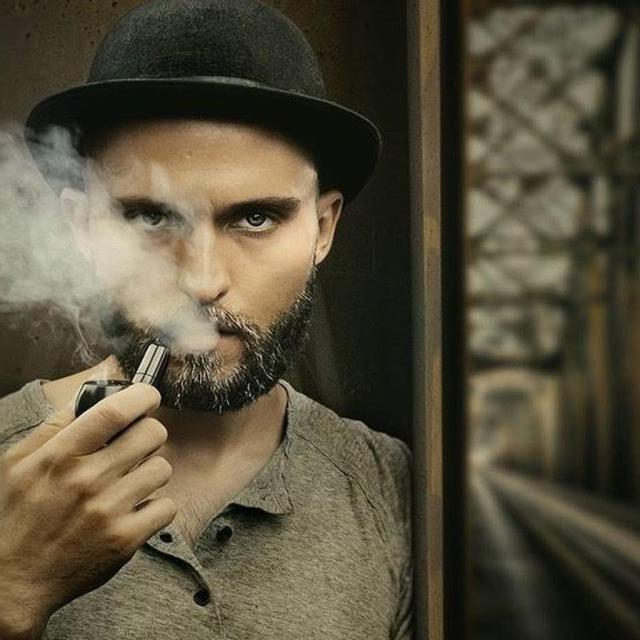smoking: (46, 4, 355, 448)
